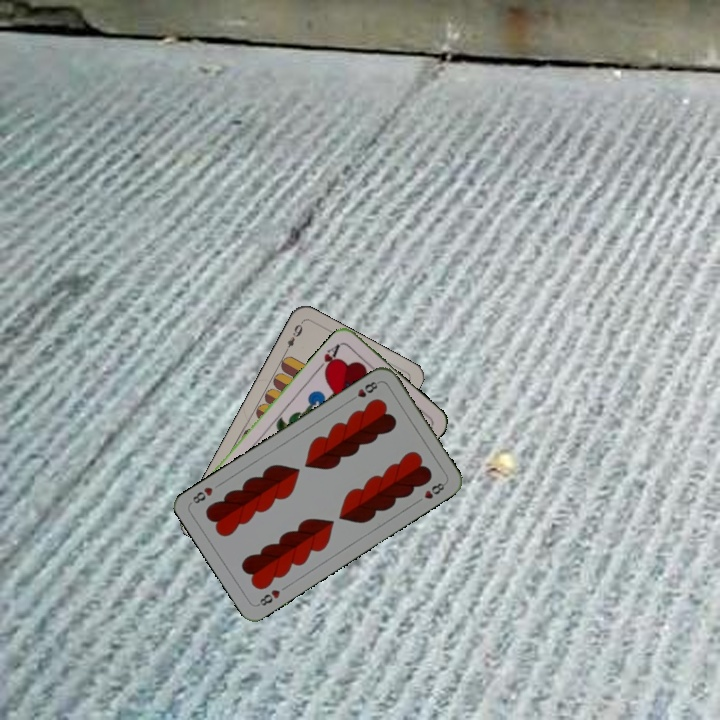E9: (280, 318, 305, 356)
H8: (346, 377, 382, 404), (253, 585, 283, 609)
HA: (313, 339, 344, 376)
